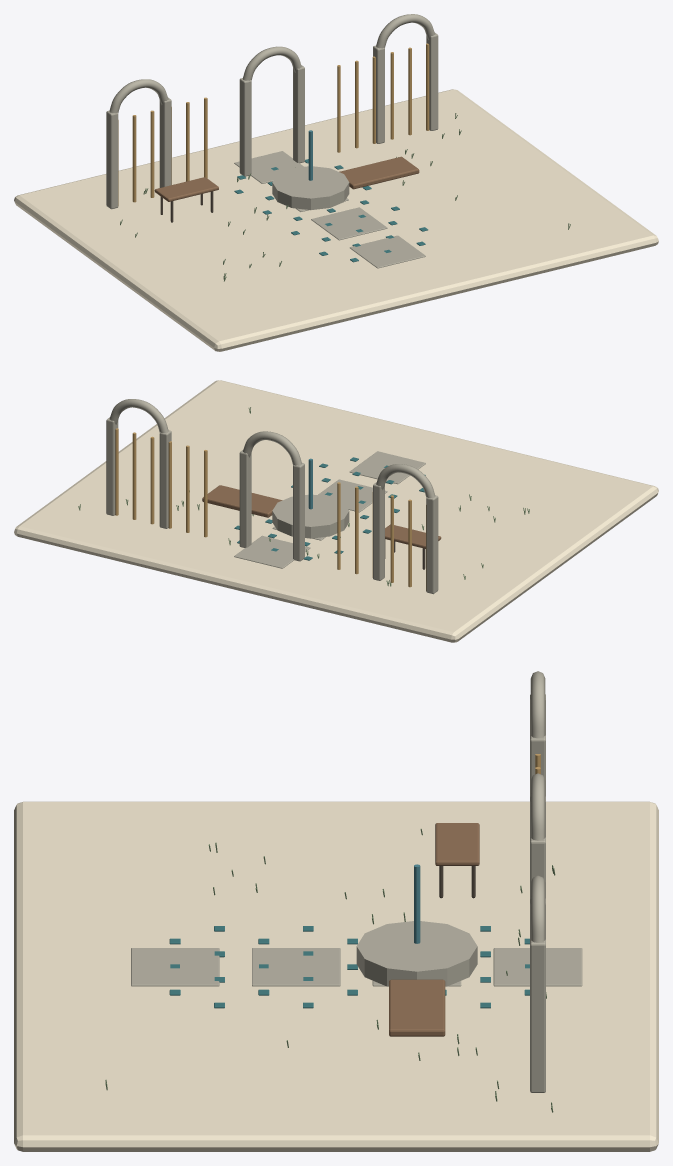
Rendered from ala_palace-9t-Z9zaZ.glb.
3 renders of one model, top to bottom at view 1: azimuth 30°, elevation 25°; view 2: azimuth 150°, elevation 25°; view 3: azimuth 270°, elevation 25°, orthographic. The views are drawn at different scales.
Visible parts, largest first — view 1: world_cream.045, world_stone.045, world_brass.045, FX_bridge_wood.045, world_wood.045, world_Story primary.020; view 2: world_cream.045, world_stone.045, world_brass.045, FX_bridge_wood.045, world_wood.045, world_Story primary.020; view 3: world_cream.045, world_stone.045, FX_bridge_wood.045, world_wood.045, world_Story primary.020.
Part boxes in pixels (left/top/right/bottom): world_cream.045: left=14, top=89, right=658, bottom=351; world_stone.045: left=106, top=14, right=438, bottom=268; world_brass.045: left=118, top=43, right=429, bottom=205; FX_bridge_wood.045: left=339, top=156, right=419, bottom=189; world_wood.045: left=154, top=177, right=218, bottom=201; world_Story primary.020: left=234, top=159, right=428, bottom=262; world_cream.045: left=14, top=380, right=658, bottom=642; world_stone.045: left=106, top=399, right=438, bottom=593; world_brass.045: left=115, top=428, right=426, bottom=590; FX_bridge_wood.045: left=202, top=485, right=282, bottom=517; world_wood.045: left=385, top=524, right=441, bottom=548; world_Story primary.020: left=234, top=457, right=425, bottom=560; world_cream.045: left=14, top=801, right=658, bottom=1151; world_stone.045: left=131, top=671, right=582, bottom=1092; FX_bridge_wood.045: left=389, top=979, right=445, bottom=1036; world_wood.045: left=435, top=823, right=479, bottom=865; world_Story primary.020: left=169, top=926, right=529, bottom=1008.
Bounding box in the file's own units: 20 × 5.64 × 16.
